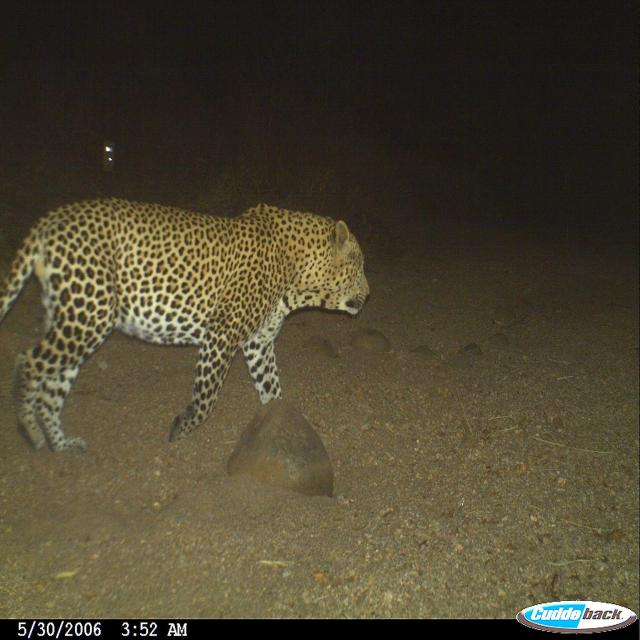Leopard: (12, 190, 365, 467)
